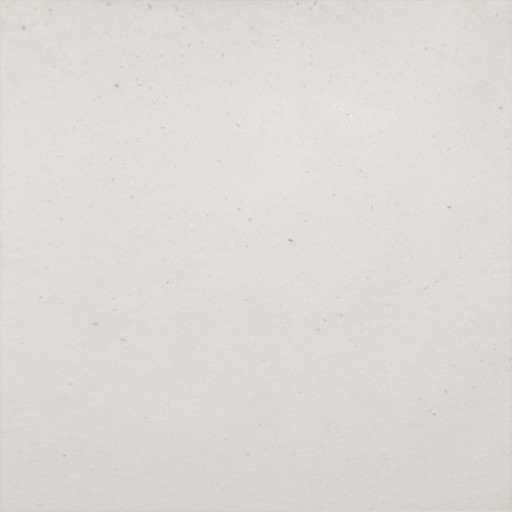lego: (208, 228, 305, 285)
